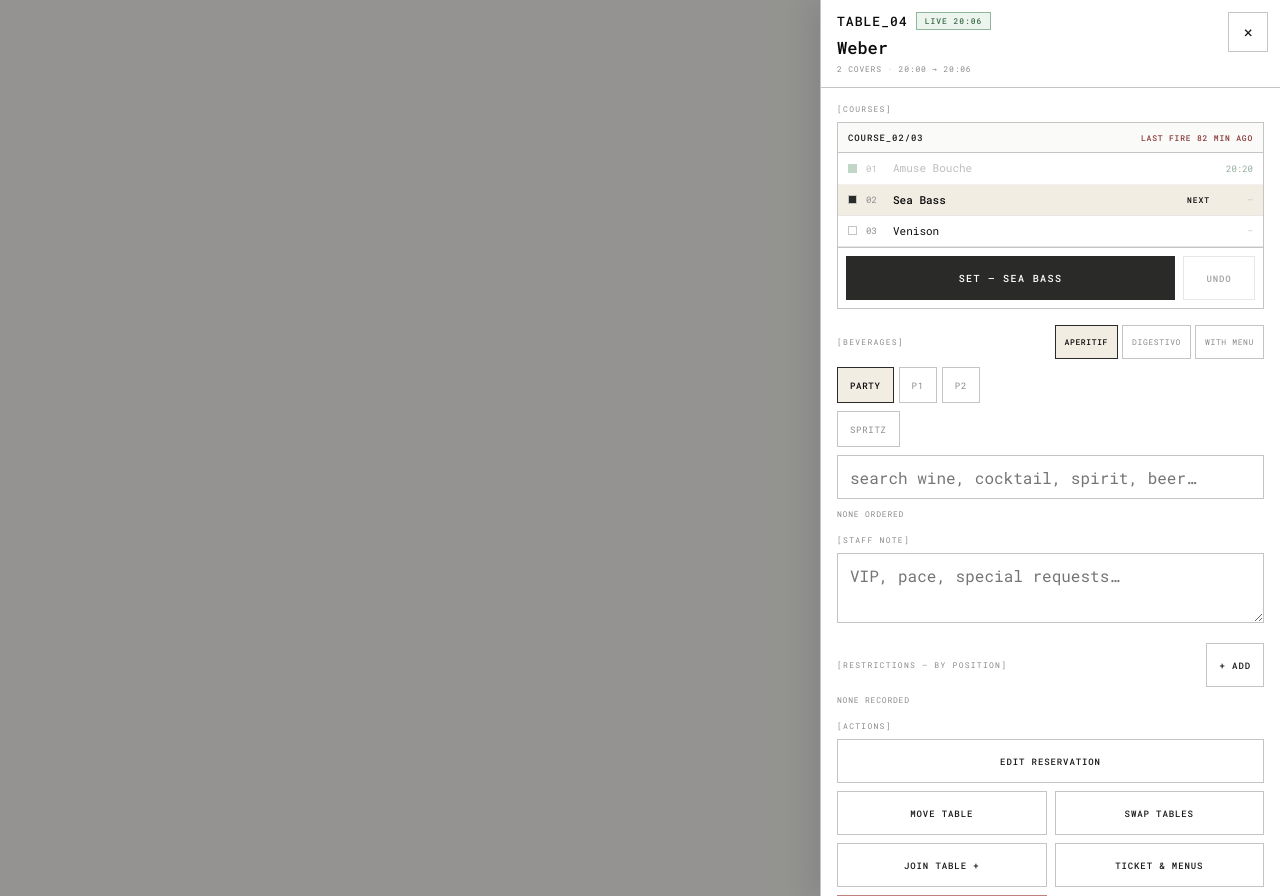
Scenario: TableSheet — the configured aperitif and digestivo buttons › swaps to the digestivo buttons on the digestivo phase
This screenshot has width=1280, height=896.
Click the button "DIGESTIVO". click: (1157, 342)
box: [1122,325,1191,359]
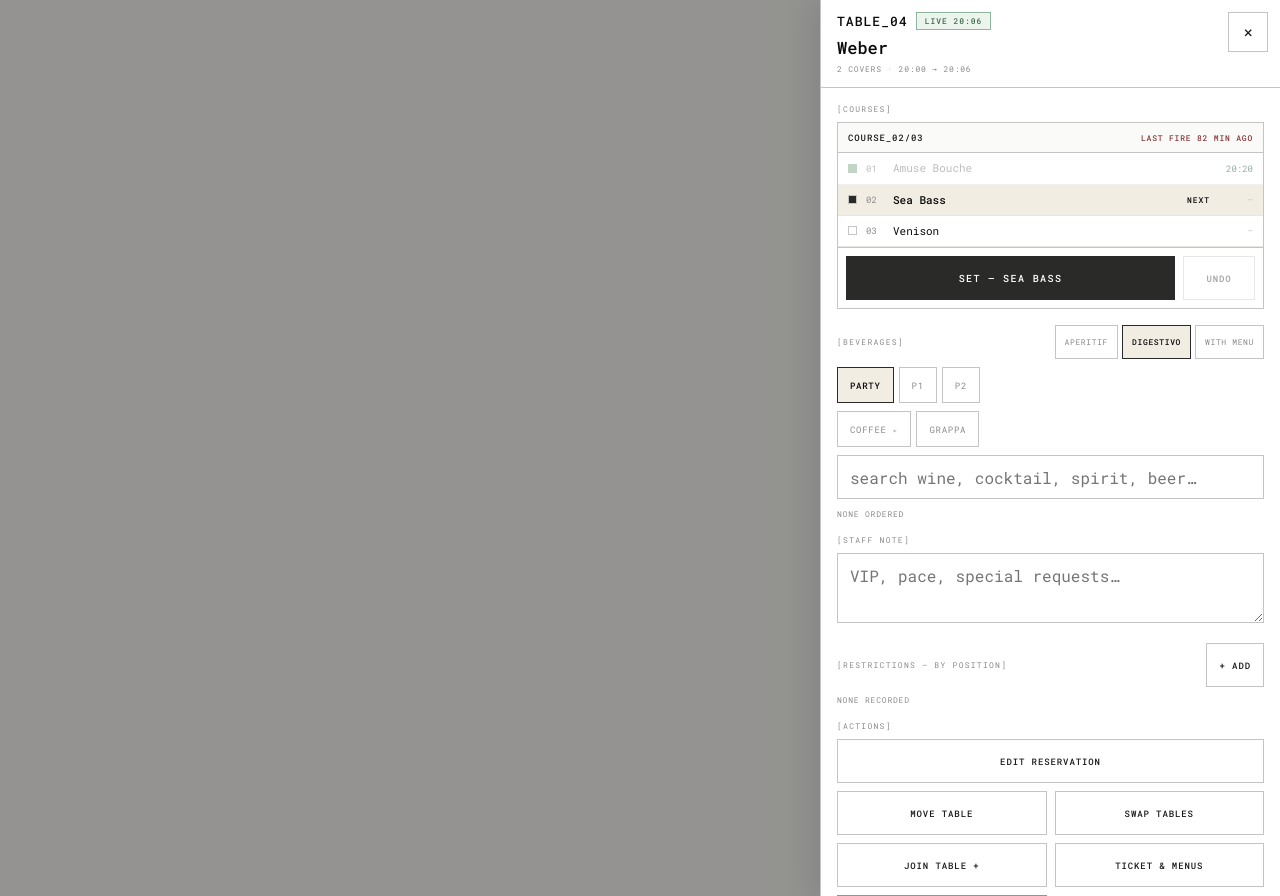
Check: the button with aria-label "Add Grappa" is shown, box [916,411,979,447]
